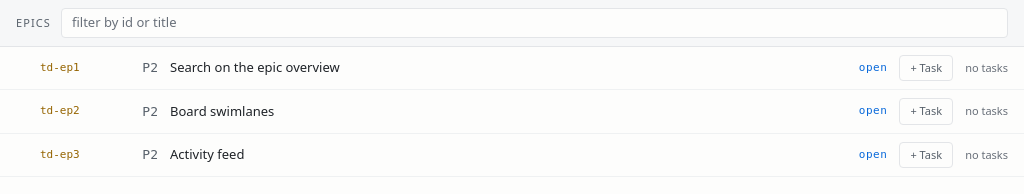
EpicList › search box › says so when nothing matches, rather than showing a blank page
Type "nothing like it" into the search field named "Search epics" at (534, 23), box x1=61 y1=8 x2=1008 y2=38
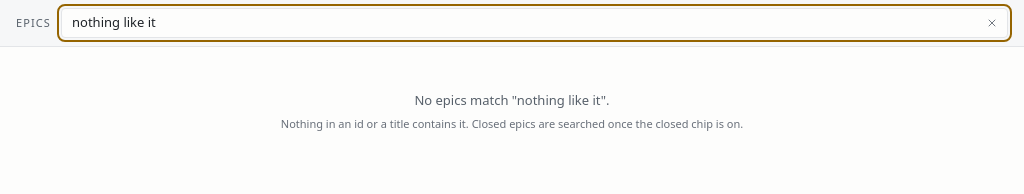
Expected: the text "No epics match \"nothing like it\"." is shown, x1=414 y1=90 x2=610 y2=108
